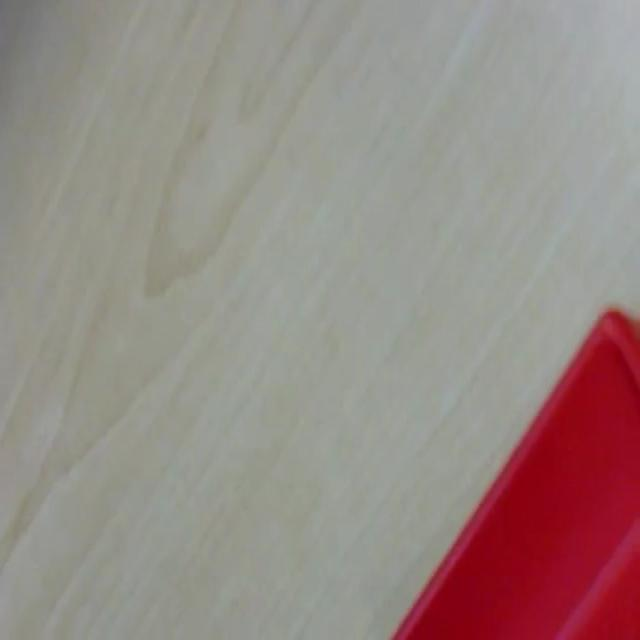red_block: (388, 304, 638, 637)
